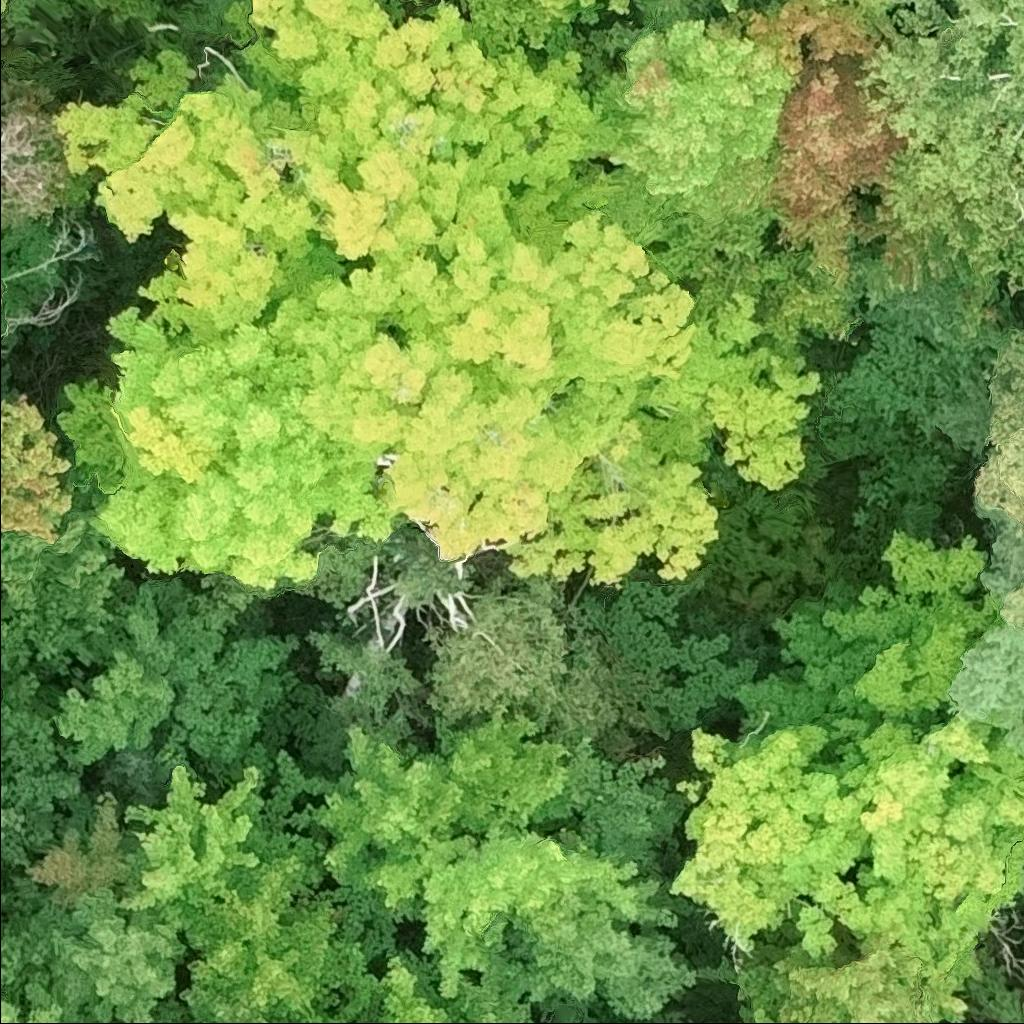crown: (238, 0, 626, 337), (51, 269, 407, 593), (428, 205, 829, 491), (300, 326, 714, 589), (54, 46, 350, 332), (809, 711, 1023, 985), (728, 527, 998, 740), (415, 826, 704, 1023), (310, 707, 573, 914), (570, 15, 803, 242), (854, 0, 1023, 297), (671, 725, 880, 960), (156, 830, 401, 1023), (427, 556, 650, 752), (142, 574, 303, 792), (0, 460, 140, 679), (768, 57, 903, 281), (54, 578, 178, 771), (20, 884, 189, 1023), (120, 760, 273, 912), (732, 926, 969, 1023), (0, 672, 83, 881), (946, 514, 1023, 734), (17, 788, 140, 905), (707, 0, 907, 70), (223, 0, 412, 64), (0, 390, 75, 542), (455, 0, 634, 59), (364, 952, 503, 1023), (974, 331, 1023, 523), (0, 870, 45, 1016), (159, 983, 274, 1023), (22, 975, 97, 1023), (268, 1007, 349, 1023), (0, 995, 30, 1023), (741, 1003, 782, 1023), (1003, 586, 1023, 621), (714, 0, 743, 15), (0, 277, 8, 318), (0, 687, 4, 702)
